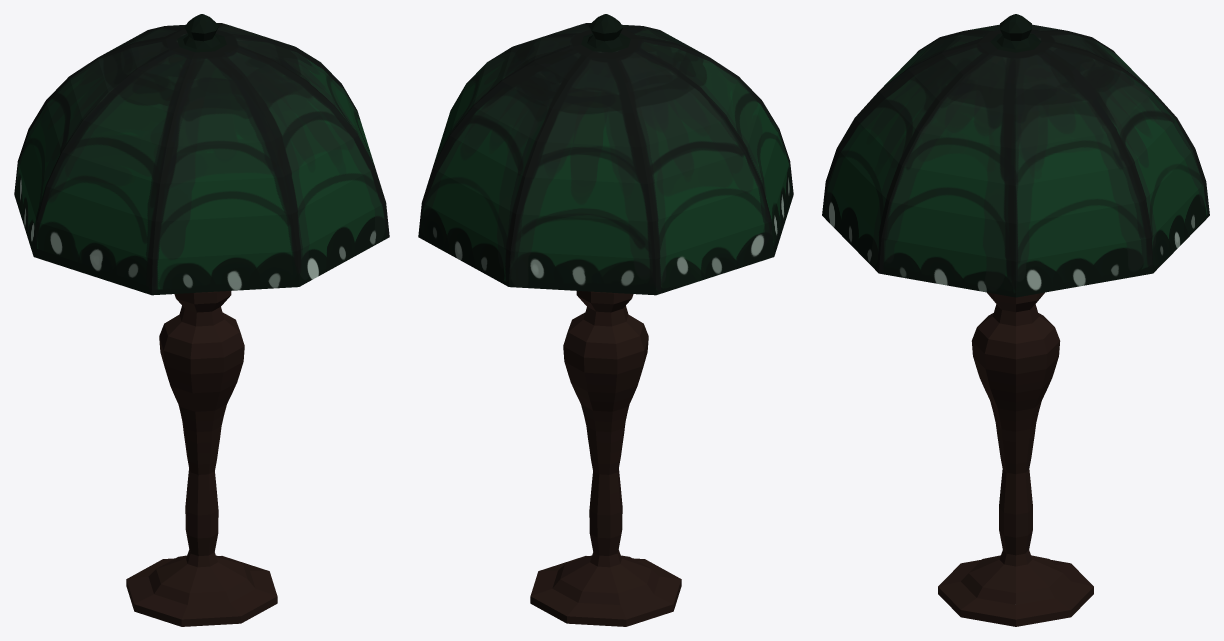
File: lamp.fbx
3 renders of one model, left to right at view 1: azimuth 30°, elevation 25°; view 2: azimuth 150°, elevation 25°; view 3: azimuth 270°, elevation 25°, orthographic.
Parts seen in each view (by area): view 1: Sphere; view 2: Sphere; view 3: Sphere.
Part boxes in pixels (x1,y1,x2,y2): Sphere: (14, 14, 389, 626); Sphere: (418, 14, 793, 626); Sphere: (822, 14, 1209, 626).
Size of the model in its own units: 200 by 329 by 200.
